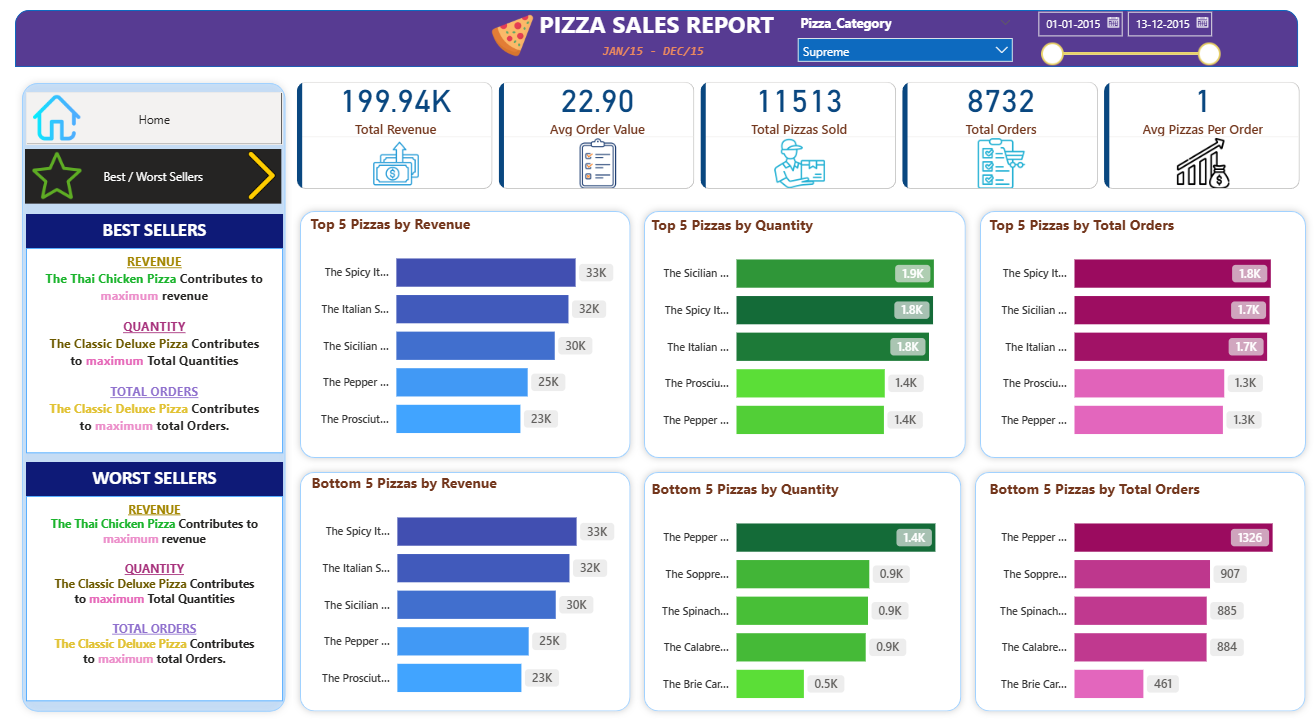

The dashboard page shown, as its layout file describes it:
{"tool":"powerbi","page":{"name":"Best / Worst Sellers","canvas":[1500,820],"ordinal":1},"visuals":[{"type":"cardVisual","fields":{"Data":["pizza_sales.Total Revenue","pizza_sales.Avg Order Value","pizza_sales.Total Pizzas Sold","pizza_sales.Total Orders","pizza_sales.Avg Pizzas Per Order"]},"box":[322.5,77.5,1177.5,156.2],"z":0},{"type":"shape","box":[18.8,12.5,1462.5,65],"z":1000},{"type":"textbox","box":[610,5,280,47.5],"z":2000},{"type":"textbox","box":[682.5,45,133.8,32.5],"z":3000},{"type":"image","box":[552.5,17.5,65,48.8],"z":4000},{"type":"shape","box":[335,233.8,392.5,297.5],"z":5000},{"type":"shape","box":[18.8,87.5,316.2,732.5],"z":6000},{"type":"textbox","box":[31.2,245,292.5,38.8],"z":7000},{"type":"textbox","box":[31.2,283.8,292.5,233.8],"z":8000},{"type":"textbox","box":[31.2,527.5,292.5,38.8],"z":9000},{"type":"textbox","box":[31.2,566.2,292.5,233.8],"z":10000},{"type":"slicer","fields":{"Values":["pizza_sales.pizza_category"]},"box":[900,12.5,265,63.8],"z":11000},{"type":"slicer","fields":{"Values":["pizza_sales.order_date"]},"box":[1171.2,5,237.5,77.5],"z":12000},{"type":"shape","box":[727.5,233.8,382.5,297.5],"z":13000},{"type":"shape","box":[1110,233.8,387.5,297.5],"z":14000},{"type":"shape","box":[335,531.2,392.5,288.8],"z":15000},{"type":"shape","box":[727.5,531.2,377.5,288.8],"z":16000},{"type":"shape","box":[1105,531.2,392.5,288.8],"z":17000},{"type":"barChart","title":"Top 5 Pizzas by Revenue","fields":{"Category":["pizza_sales.pizza_name"],"Y":["pizza_sales.Total Revenue"]},"box":[350,245,360,272.5],"z":18000},{"type":"barChart","title":"Bottom 5 Pizzas by Revenue","fields":{"Category":["pizza_sales.pizza_name"],"Y":["pizza_sales.Total Revenue"]},"box":[351.2,540,360,272.5],"z":19000},{"type":"barChart","title":"Top 5 Pizzas by Quantity","fields":{"Category":["pizza_sales.pizza_name"],"Y":["pizza_sales.Total Pizzas Sold"]},"box":[738.8,246.2,355,272.5],"z":20000},{"type":"barChart","title":"Bottom 5 Pizzas by Quantity","fields":{"Category":["pizza_sales.pizza_name"],"Y":["pizza_sales.Total Pizzas Sold"]},"box":[738.8,547.5,355,272.5],"z":21000},{"type":"barChart","title":"Top 5 Pizzas by Total Orders","fields":{"Category":["pizza_sales.pizza_name"],"Y":["pizza_sales.Total Orders"]},"box":[1123.8,246.2,355,272.5],"z":22000},{"type":"barChart","title":"Bottom 5 Pizzas by Total Orders","fields":{"Category":["pizza_sales.pizza_name"],"Y":["pizza_sales.Total Orders"]},"box":[1123.8,547.5,355,272.5],"z":23000},{"type":"pageNavigator","box":[30,171.2,292.5,62.5],"z":24000},{"type":"pageNavigator","box":[31.2,106.2,292.5,60],"z":25000},{"type":"image","box":[265,173.8,70,56.2],"z":26000},{"type":"image","box":[31.2,108.8,70,53.8],"z":27000},{"type":"image","box":[32.5,173.8,66.2,56.2],"z":28000}]}

Visuals, with their boxes in screenshot pixels (x1, y1, x2, y2), scaled from the page's 1500x820 canvas onto the 1314x719 screenshot:
cardVisual - pizza_sales.Total Revenue x pizza_sales.Avg Order Value: pyautogui.locateOnScreen(283, 68, 1313, 205)
shape: pyautogui.locateOnScreen(16, 11, 1298, 68)
textbox: pyautogui.locateOnScreen(534, 4, 780, 46)
textbox: pyautogui.locateOnScreen(598, 39, 715, 68)
image: pyautogui.locateOnScreen(484, 15, 541, 58)
shape: pyautogui.locateOnScreen(293, 205, 637, 466)
shape: pyautogui.locateOnScreen(16, 77, 293, 718)
textbox: pyautogui.locateOnScreen(27, 215, 284, 249)
textbox: pyautogui.locateOnScreen(27, 249, 284, 454)
textbox: pyautogui.locateOnScreen(27, 463, 284, 497)
textbox: pyautogui.locateOnScreen(27, 496, 284, 701)
slicer - pizza_sales.pizza_category: pyautogui.locateOnScreen(788, 11, 1021, 67)
slicer - pizza_sales.order_date: pyautogui.locateOnScreen(1026, 4, 1234, 72)
shape: pyautogui.locateOnScreen(637, 205, 972, 466)
shape: pyautogui.locateOnScreen(972, 205, 1312, 466)
shape: pyautogui.locateOnScreen(293, 466, 637, 718)
shape: pyautogui.locateOnScreen(637, 466, 968, 718)
shape: pyautogui.locateOnScreen(968, 466, 1312, 718)
"Top 5 Pizzas by Revenue" barChart: pyautogui.locateOnScreen(307, 215, 622, 454)
"Bottom 5 Pizzas by Revenue" barChart: pyautogui.locateOnScreen(308, 473, 623, 712)
"Top 5 Pizzas by Quantity" barChart: pyautogui.locateOnScreen(647, 216, 958, 455)
"Bottom 5 Pizzas by Quantity" barChart: pyautogui.locateOnScreen(647, 480, 958, 718)
"Top 5 Pizzas by Total Orders" barChart: pyautogui.locateOnScreen(984, 216, 1295, 455)
"Bottom 5 Pizzas by Total Orders" barChart: pyautogui.locateOnScreen(984, 480, 1295, 718)
pageNavigator: pyautogui.locateOnScreen(26, 150, 283, 205)
pageNavigator: pyautogui.locateOnScreen(27, 93, 284, 146)
image: pyautogui.locateOnScreen(232, 152, 293, 202)
image: pyautogui.locateOnScreen(27, 95, 89, 143)
image: pyautogui.locateOnScreen(28, 152, 86, 202)
